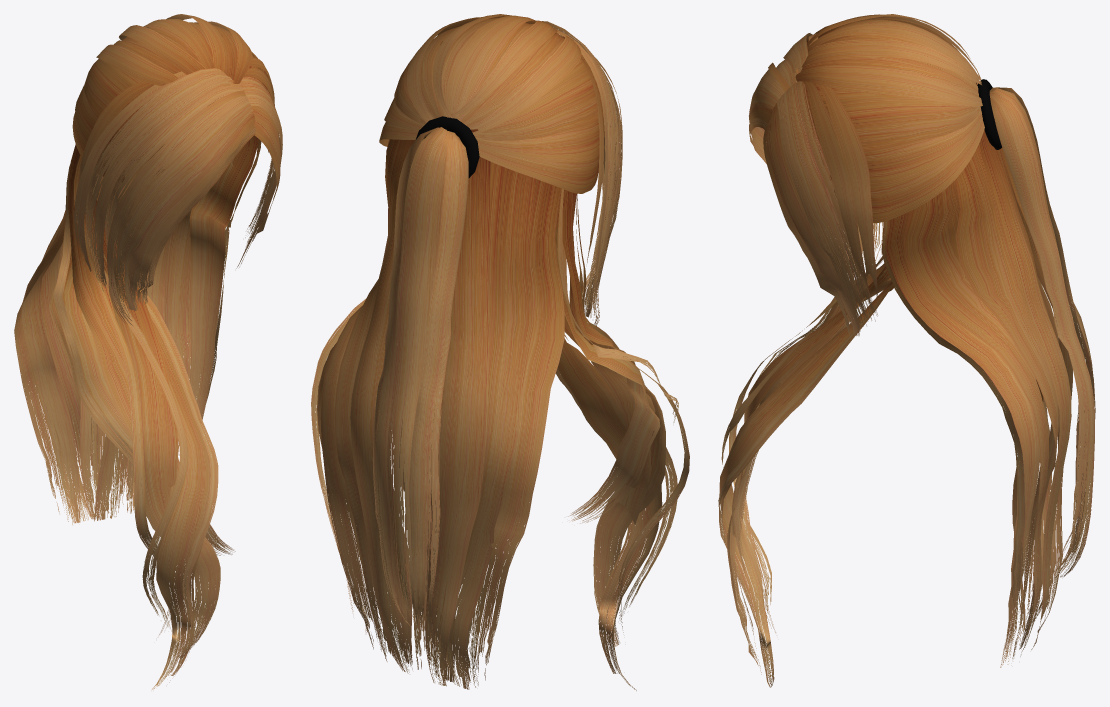
File: mh_elvs_lady_hippy_hair.glb
The picture shows the model from 3 angles, left to right: view 1: azimuth 30°, elevation 25°; view 2: azimuth 150°, elevation 25°; view 3: azimuth 270°, elevation 25°; orthographic projection. The views are drawn at different scales.
Parts seen in each view (by area): view 1: mh_elvs_lady_hippy_hair; view 2: mh_elvs_lady_hippy_hair; view 3: mh_elvs_lady_hippy_hair.
Boxes of the visible parts, box(x1,y1,x2,y2) form: mh_elvs_lady_hippy_hair: box(14, 14, 282, 689); mh_elvs_lady_hippy_hair: box(311, 14, 689, 690); mh_elvs_lady_hippy_hair: box(718, 14, 1095, 687).
Size of the model in its own units: 0.2864 by 0.727 by 0.3521.
1 material, 1 textured.
